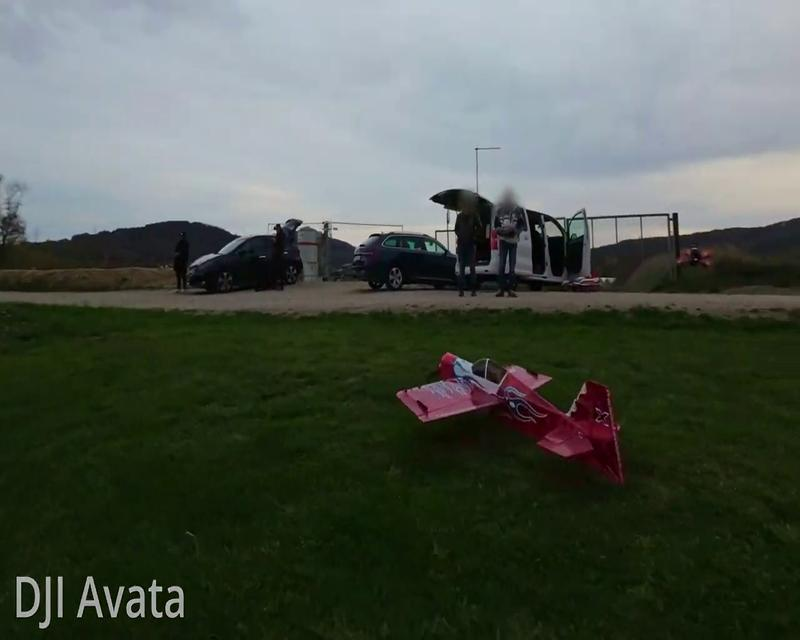UAV: (397, 351, 624, 456)
